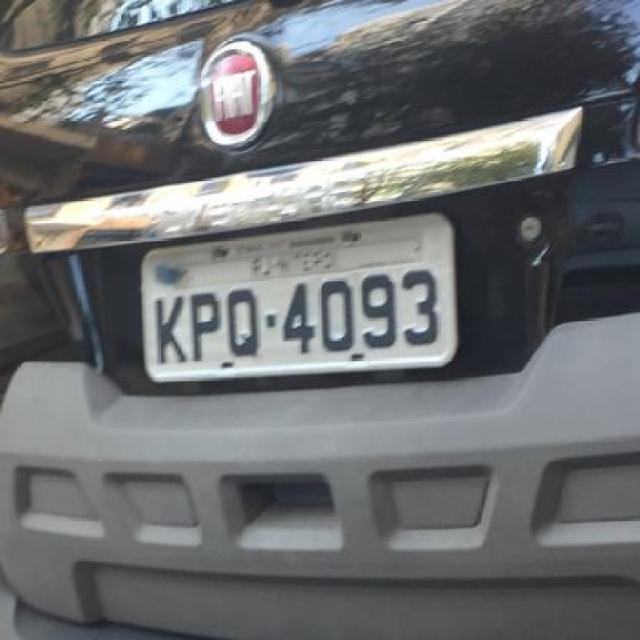old_plate: (135, 207, 462, 387)
